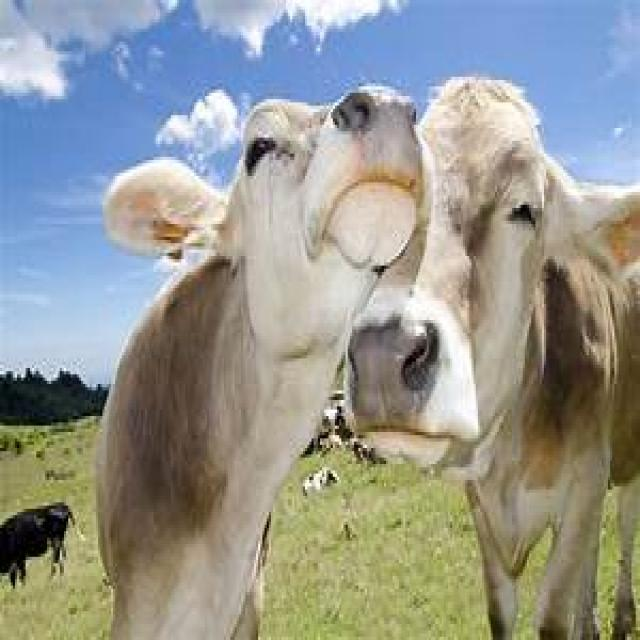cow: (94, 86, 425, 640), (348, 77, 640, 640)
